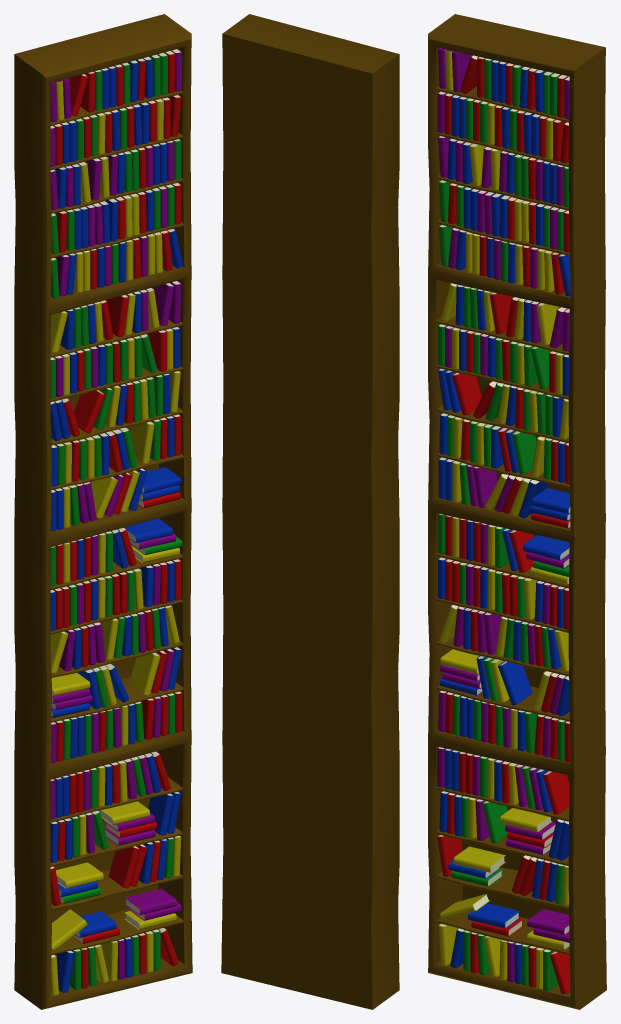
The model's file is bookshelf_3.fbx.
3 views of the same model, side by side, from view 1: azimuth 30°, elevation 25°; view 2: azimuth 150°, elevation 25°; view 3: azimuth 330°, elevation 25° (orthographic).
Visible parts, largest first — view 1: books, shelf; view 2: shelf; view 3: books, shelf.
Boxes of the visible parts, x1,y1,x2,y2 form: books: (50,49,182,995); shelf: (14,14,192,1009); shelf: (221,14,399,1009); books: (437,48,570,994); shelf: (428,14,606,1009).
Bounding box in the file's own units: 94.85 × 563 × 31.41.
